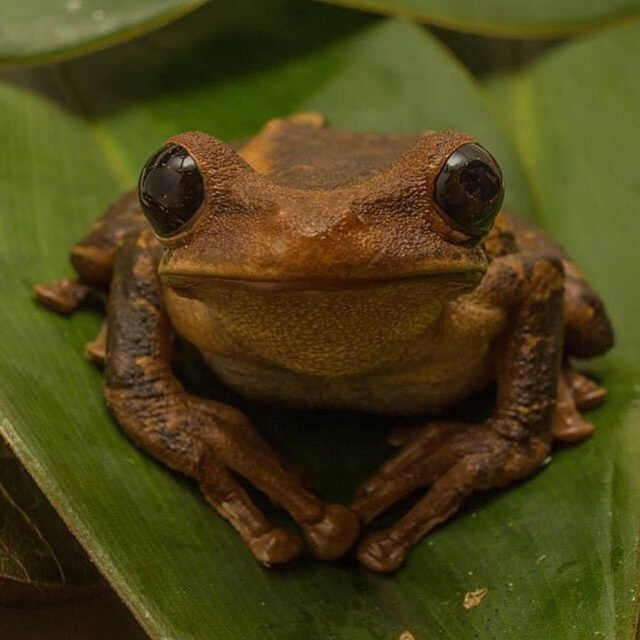Frog: (29, 109, 614, 566)
